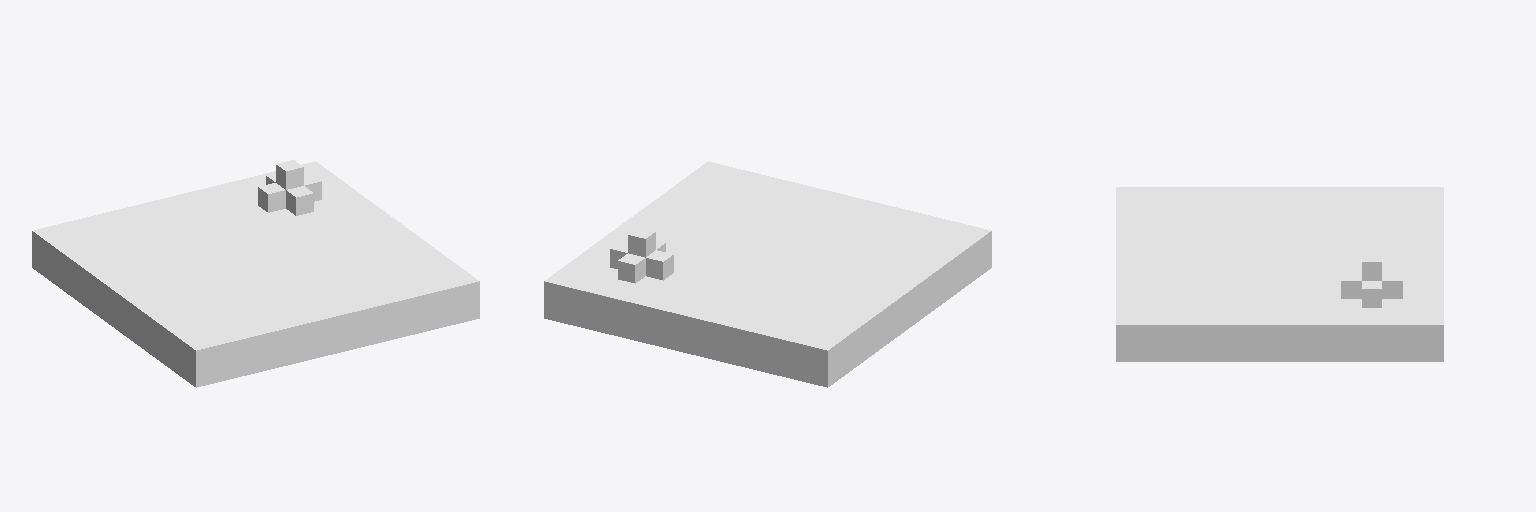
The model's file is Field_3.obj.
The picture shows the model from 3 angles: view 1: azimuth 30°, elevation 25°; view 2: azimuth 150°, elevation 25°; view 3: azimuth 270°, elevation 25°; orthographic projection.
Visible parts, largest first — view 1: object 1; view 2: object 1; view 3: object 1.
Boxes of the visible parts, <box> form: object 1: <box>32,160,479,387</box>; object 1: <box>544,161,991,387</box>; object 1: <box>1116,187,1443,361</box>.
Bounding box in the file's own units: 1.6 × 0.4 × 1.6.